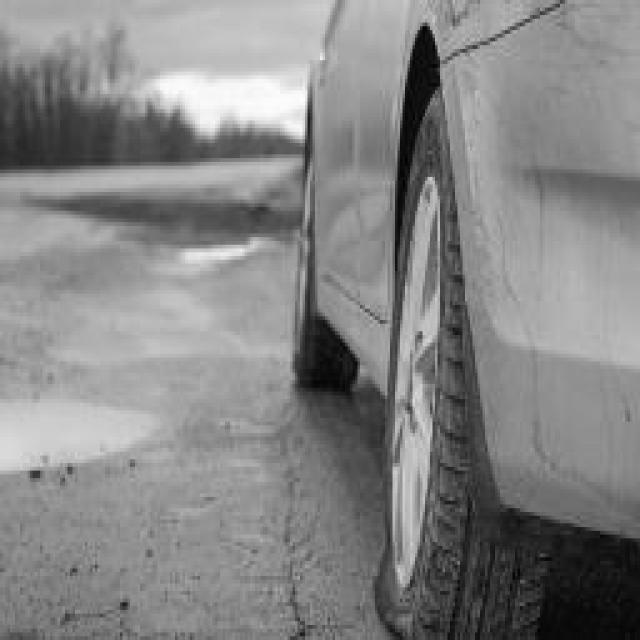Fender: (432, 8, 508, 64)
